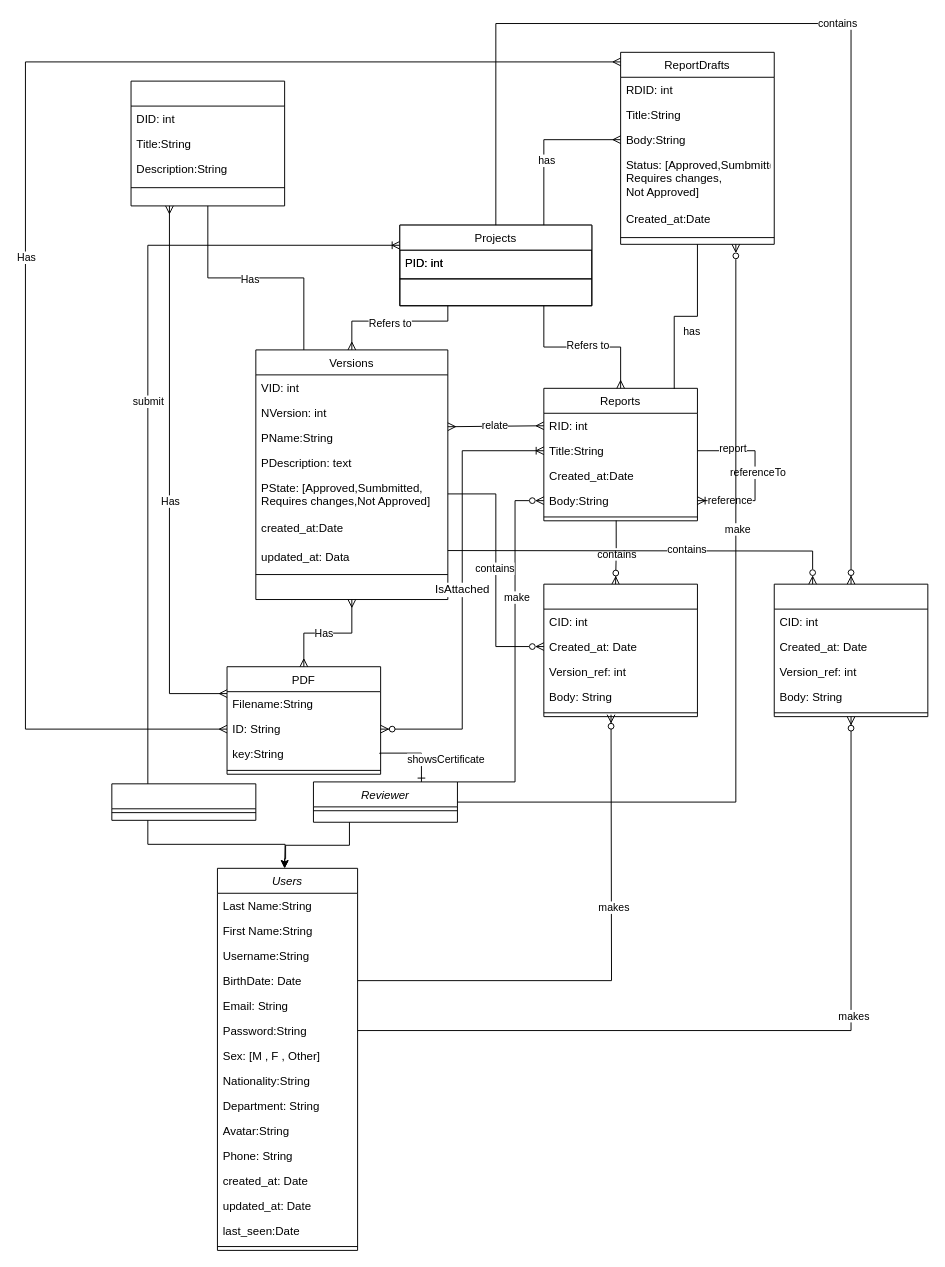
Some shapes in this 945 by 1267 pixel diagram are drawn without their labels. The shapes that lost their labels are listed below. From the top down, each one's box as (x1, y1, x2, y2) in pixels, then its label:
(130, 80, 285, 206): Drafts
(543, 583, 697, 717): ReportComments
(773, 583, 928, 717): Comments
(111, 783, 256, 820): Researchers
